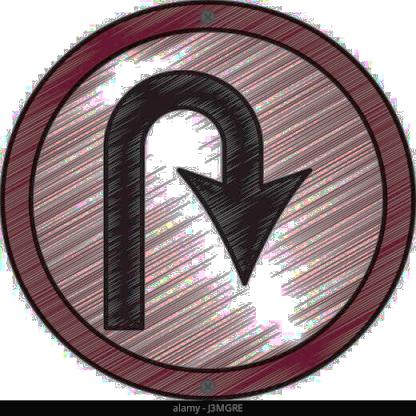U-turn: (2, 0, 416, 398)
